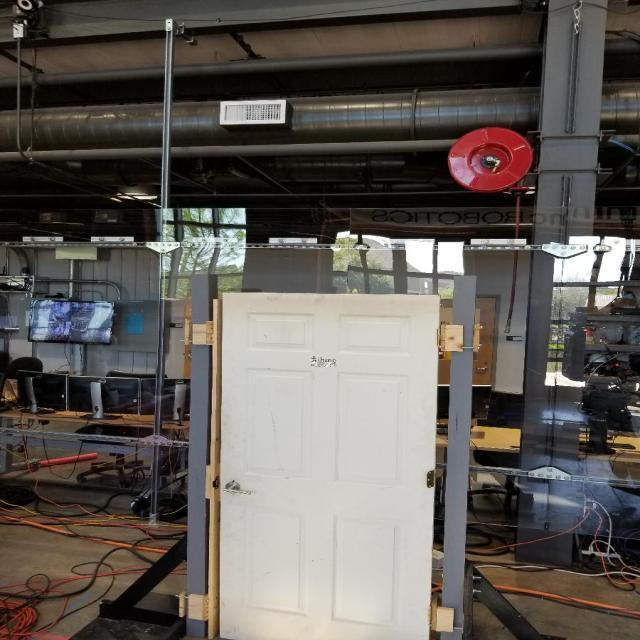door: (216, 290, 442, 640), (218, 471, 252, 499)
